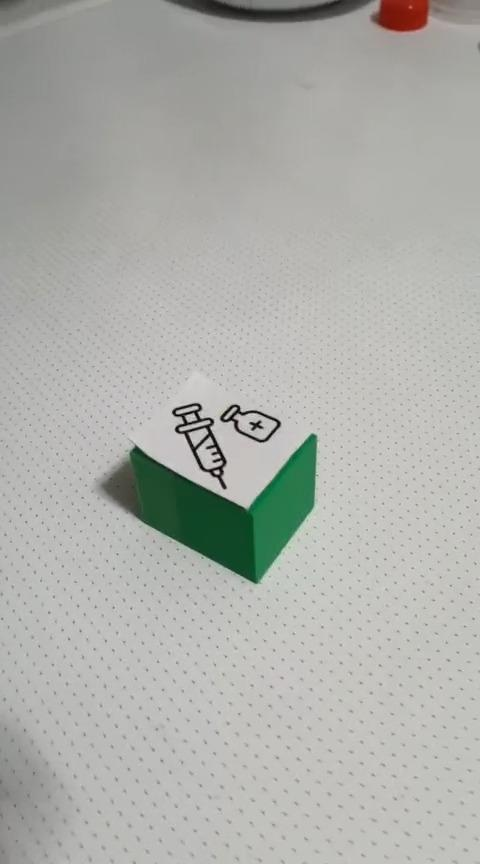antiseptic cream: (125, 368, 319, 584)
